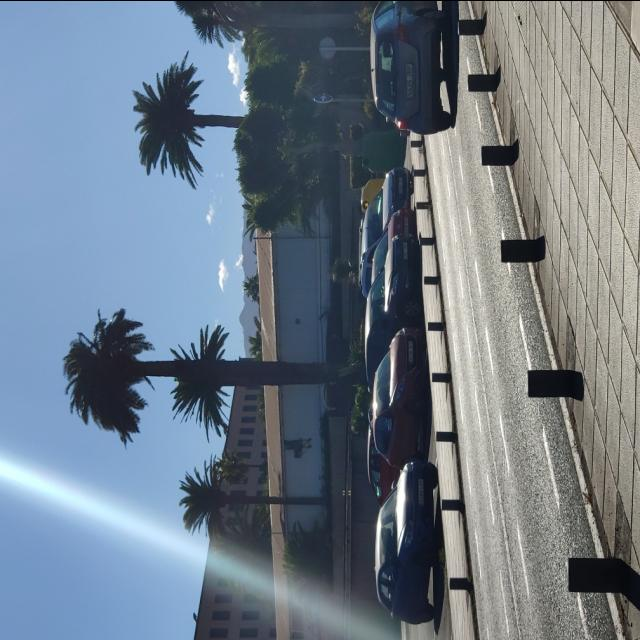Palm-Trees: (60, 303, 366, 439), (134, 60, 256, 176), (176, 460, 332, 536)
